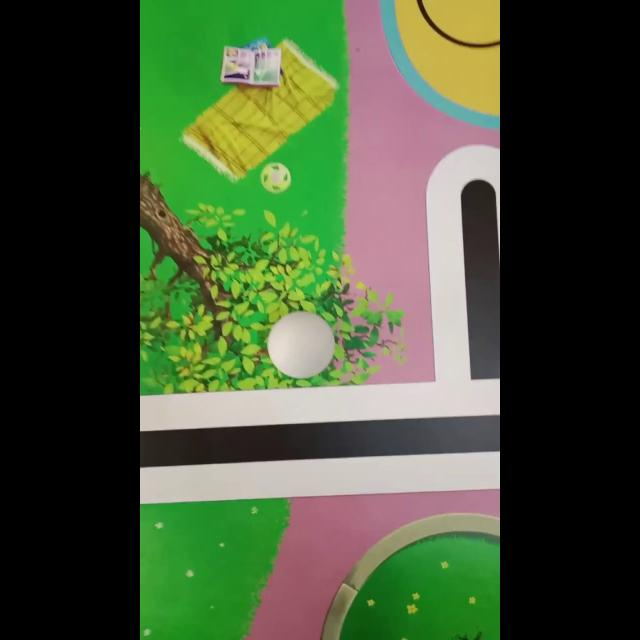white ball: (266, 310, 336, 378)
